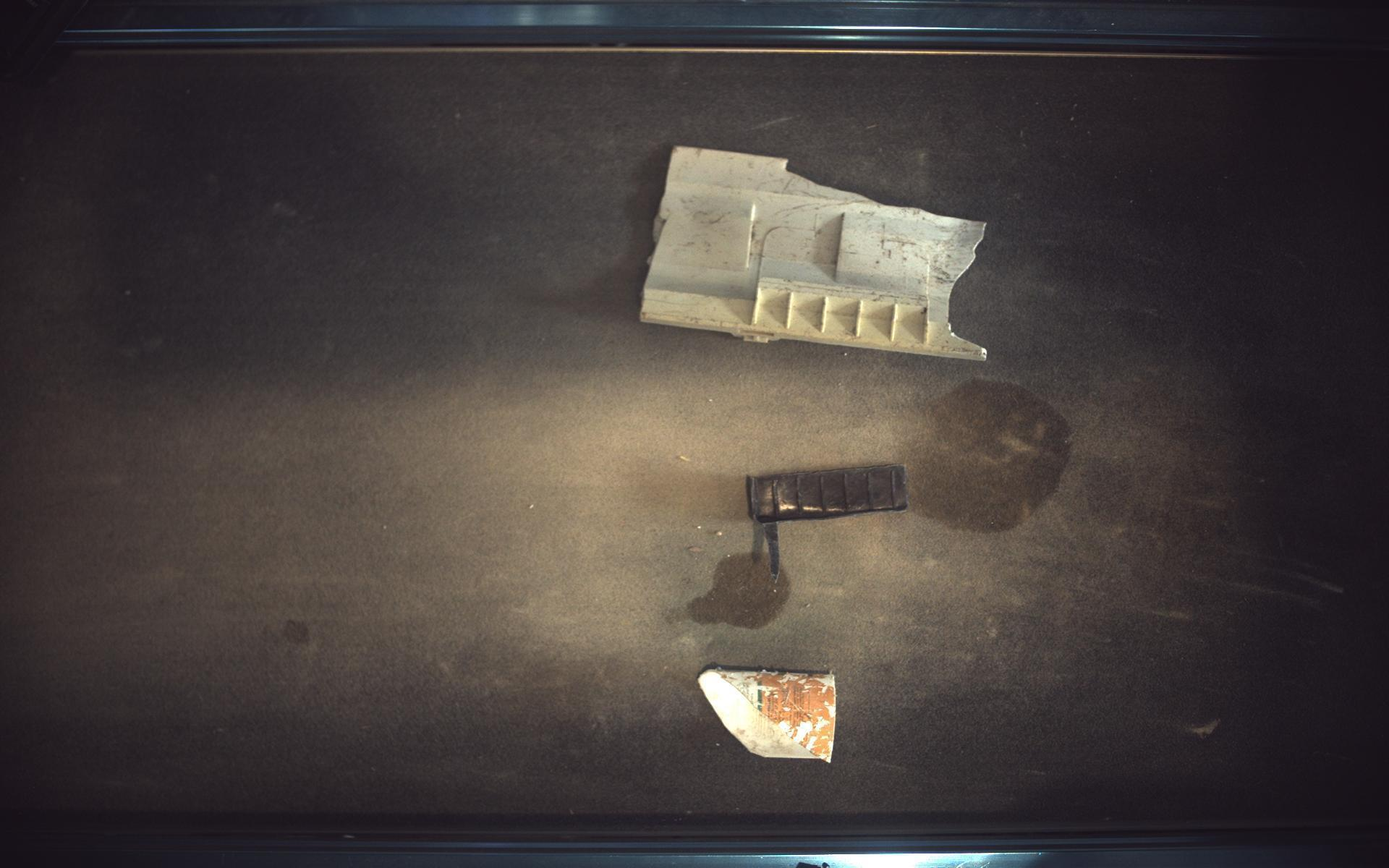plastic: (642, 145, 989, 360), (749, 465, 910, 579), (700, 668, 838, 764)
